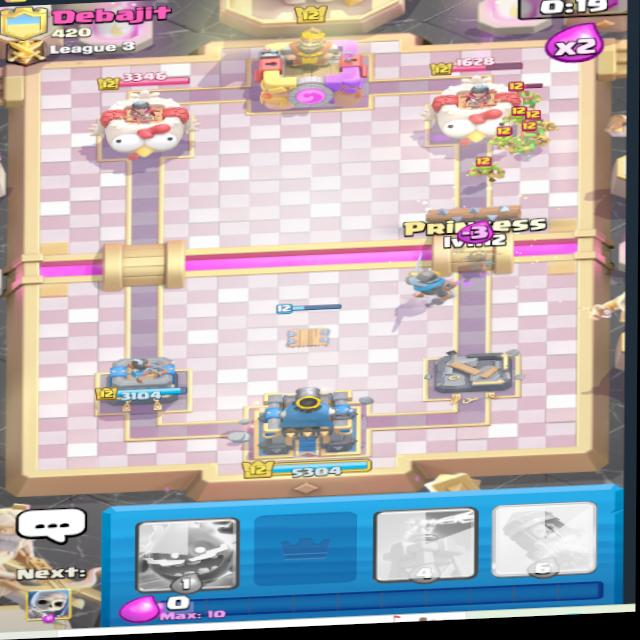goblin: (454, 145, 511, 183), (477, 121, 519, 151)
spear-goblin: (504, 79, 560, 122), (510, 126, 549, 161), (520, 107, 552, 131)
